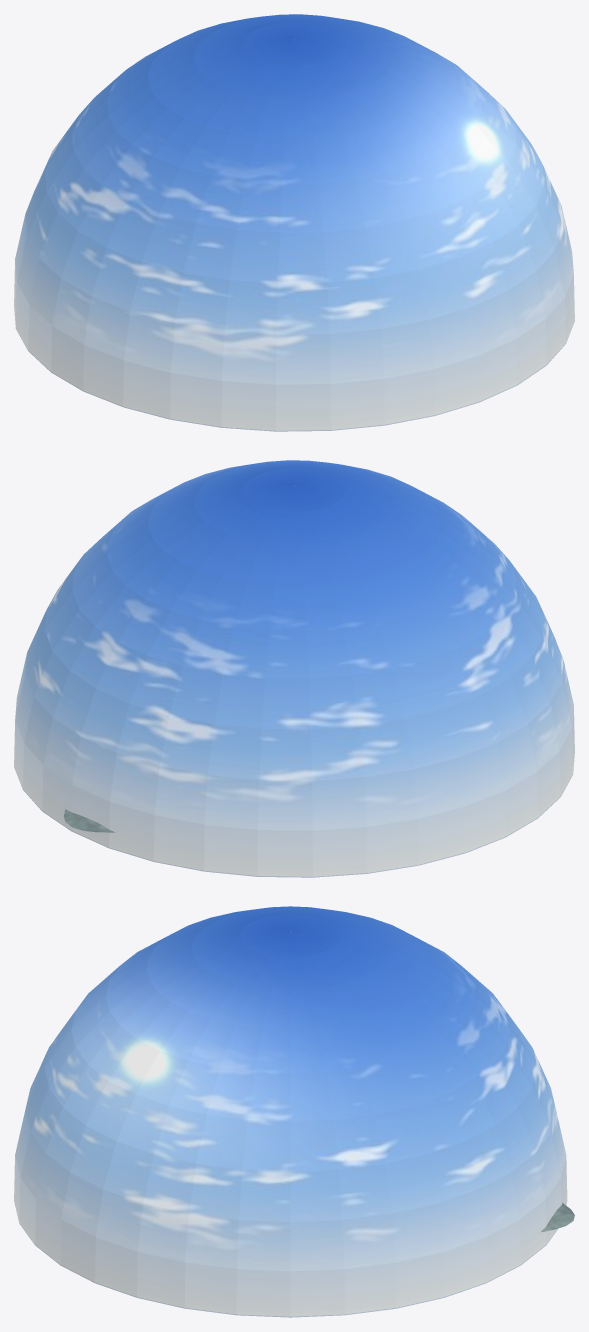
The model's file is lugar-bombay-ciudad.glb.
3 renders of one model, top to bottom at view 1: azimuth 30°, elevation 25°; view 2: azimuth 150°, elevation 25°; view 3: azimuth 270°, elevation 25°, orthographic.
Parts seen in each view (by area): view 1: planoC; view 2: planoC, vertT; view 3: planoC.
Part boxes in pixels (left/top/right/bottom): planoC: left=14, top=14, right=574, bottom=431; planoC: left=14, top=460, right=574, bottom=877; vertT: left=64, top=809, right=115, bottom=832; planoC: left=14, top=906, right=567, bottom=1317.
Bounding box in the file's own units: 6584 × 3530 × 6674.
Materials: 14 (13 with a texture image).
